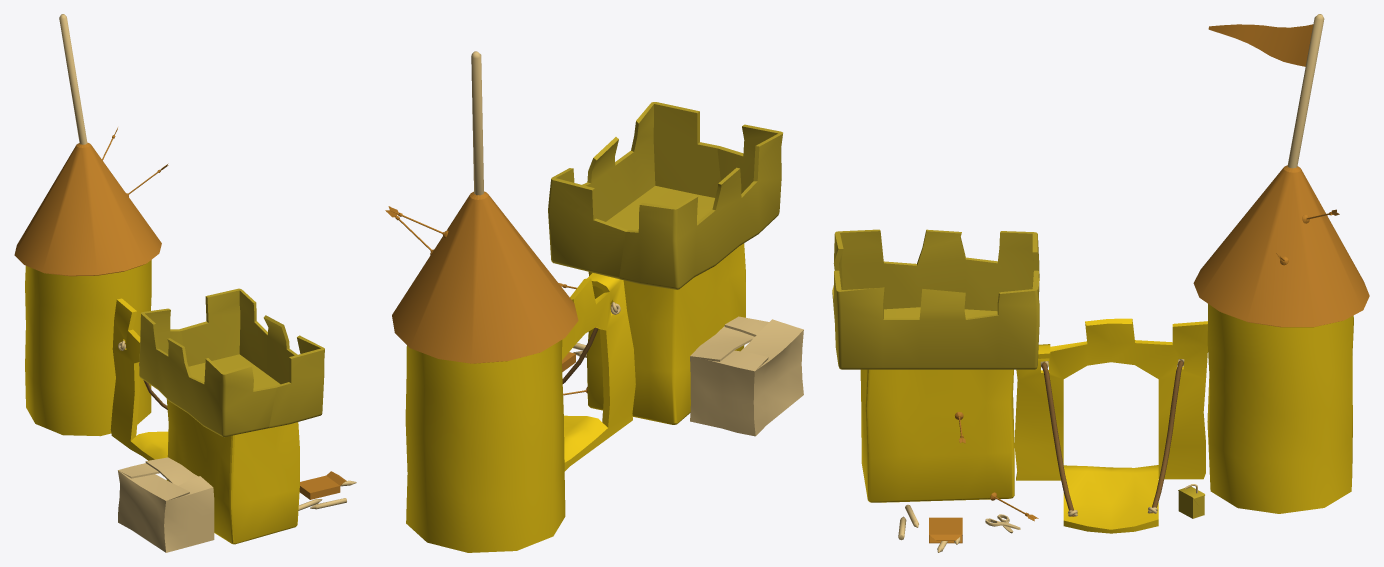
Rendered from castle.gltf.
The picture shows the model from 3 angles, left to right: view 1: azimuth 30°, elevation 25°; view 2: azimuth 150°, elevation 25°; view 3: azimuth 270°, elevation 25°; orthographic projection. The views are drawn at different scales.
Visible parts, largest first — view 1: polySurface1, tower, pCylinder2, polySurface2, cardboardbox1, gate, pCylinder3, pCube2; view 2: polySurface1, tower, pCylinder2, polySurface2, cardboardbox1, gate, pCylinder3; view 3: tower, polySurface1, gate, polySurface2, pCylinder2, pPlane1, pCylinder3, R_rope, pCube2, R_rope1, rooSIP.
Part boxes in pixels (<box>): polySurface1: <box>139,288,324,437</box>; tower: <box>25,260,151,436</box>; pCylinder2: <box>14,142,161,276</box>; polySurface2: <box>166,399,299,544</box>; cardboardbox1: <box>118,457,214,552</box>; gate: <box>110,298,168,460</box>; pCylinder3: <box>59,14,87,144</box>; pCube2: <box>299,471,346,499</box>; polySurface1: <box>548,102,782,289</box>; tower: <box>405,340,565,552</box>; pCylinder2: <box>392,191,578,363</box>; polySurface2: <box>587,243,745,424</box>; cardboardbox1: <box>690,316,803,436</box>; gate: <box>562,273,635,471</box>; pCylinder3: <box>471,51,483,195</box>; tower: <box>1207,304,1353,513</box>; polySurface1: <box>832,229,1039,369</box>; gate: <box>1014,318,1207,533</box>; polySurface2: <box>860,369,1014,502</box>; pCylinder2: <box>1193,165,1369,327</box>; pPlane1: <box>1208,24,1313,66</box>; pCylinder3: <box>1287,14,1324,168</box>; R_rope: <box>1041,362,1074,516</box>; pCube2: <box>929,517,962,543</box>; R_rope1: <box>1151,360,1183,513</box>; rooSIP: <box>1178,486,1204,518</box>.
Size of the model in its own units: 2.78 by 4.71 by 4.96.
